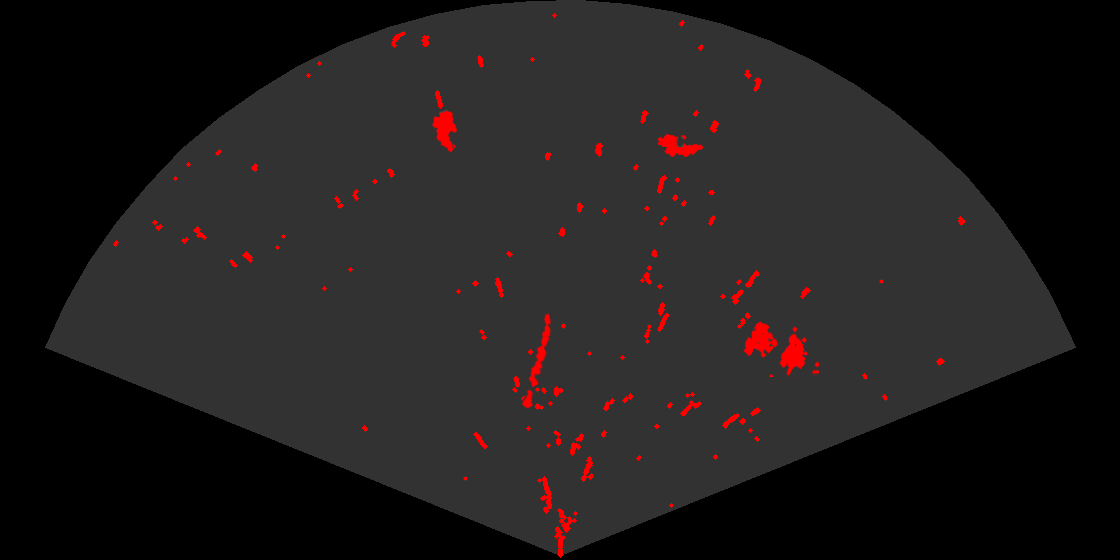AUV: (431, 109, 459, 154), (656, 133, 705, 158)
cage: (742, 320, 819, 377)
chain: (520, 312, 553, 411)
